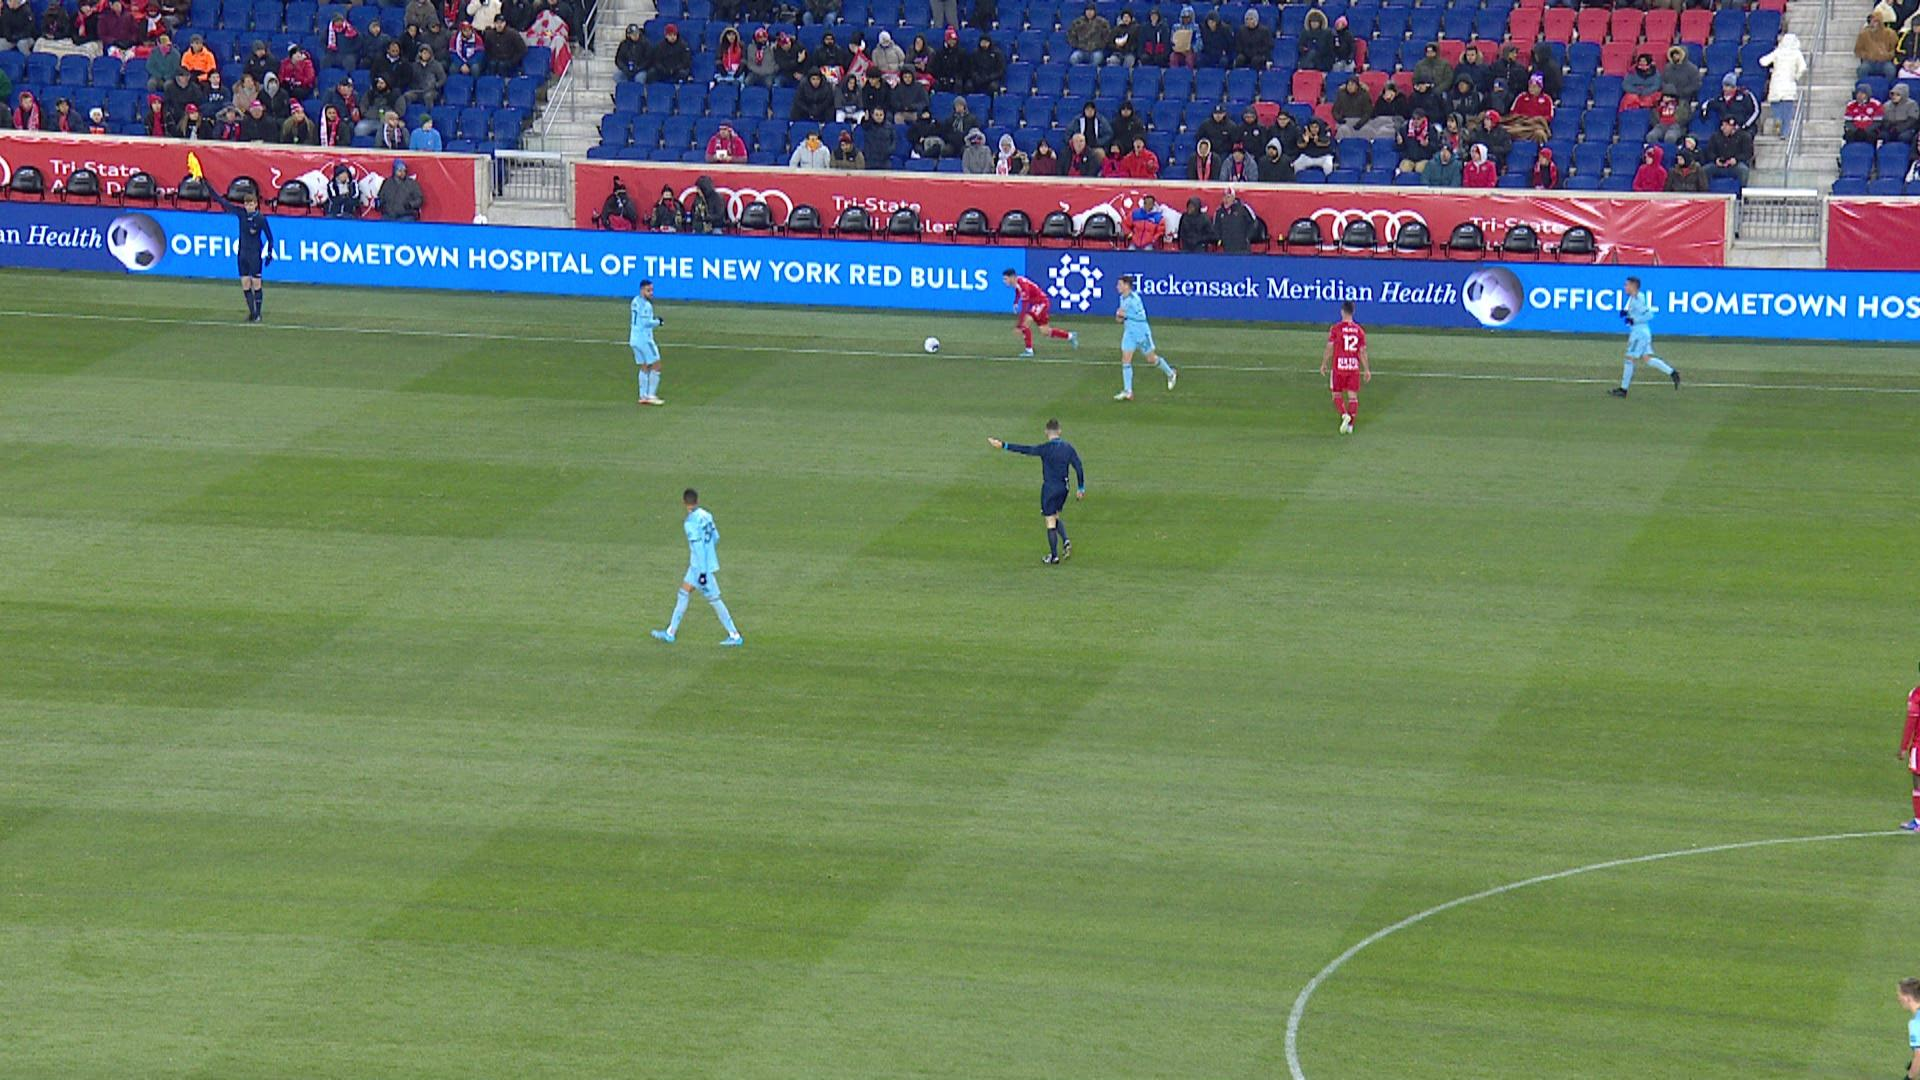football: (922, 335, 942, 353)
